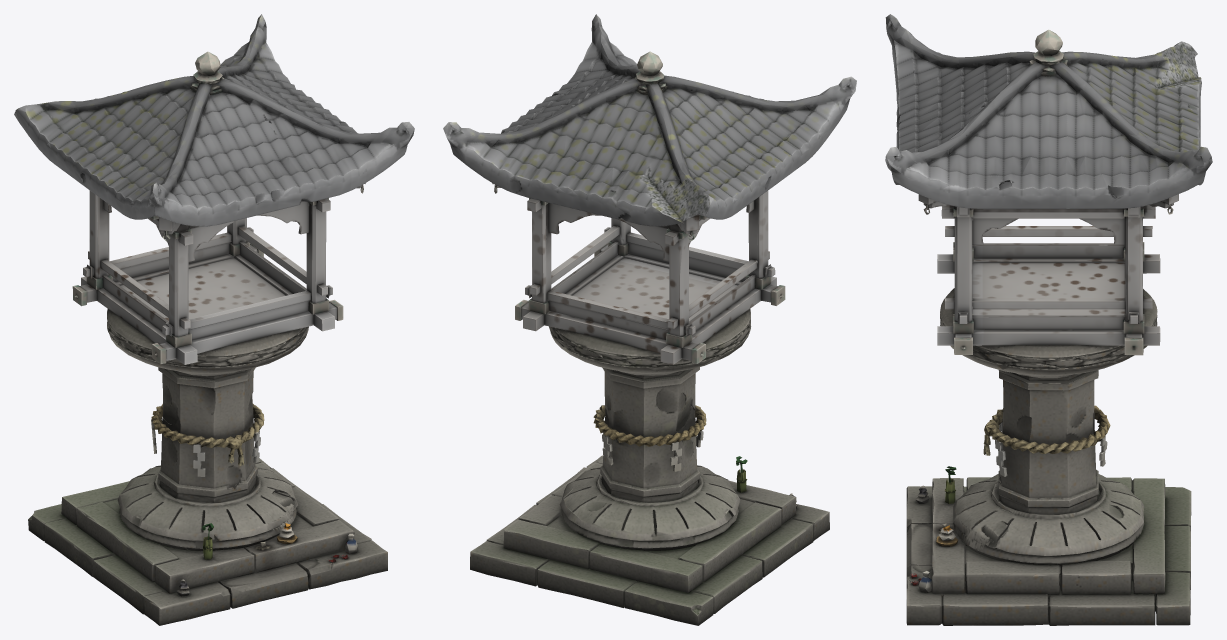
The model's file is great_lantern.glb.
3 renders of one model, left to right at view 1: azimuth 30°, elevation 25°; view 2: azimuth 150°, elevation 25°; view 3: azimuth 270°, elevation 25°, orthographic. The views are drawn at different scales.
Visible parts, largest first — view 1: great_lantern_LOD0; view 2: great_lantern_LOD0; view 3: great_lantern_LOD0.
Boxes of the visible parts, left/top/right/bottom form: great_lantern_LOD0: left=14, top=14, right=414, bottom=625; great_lantern_LOD0: left=443, top=14, right=856, bottom=625; great_lantern_LOD0: left=885, top=14, right=1212, bottom=625.
Size of what is drawn, in the model's own units: 2.99 by 5.41 by 2.99.
Materials: 7 (7 with a texture image).
